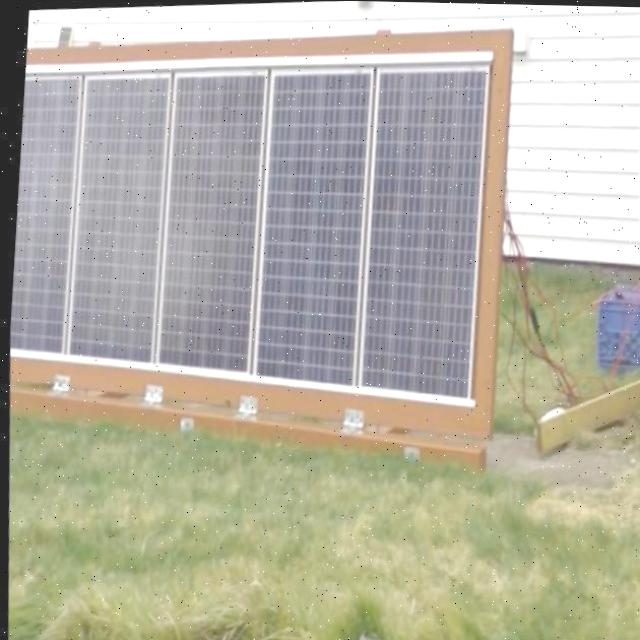Normal Solar Panel: (344, 64, 496, 402), (238, 69, 377, 387), (140, 72, 270, 376), (50, 76, 174, 362), (5, 75, 85, 353)
